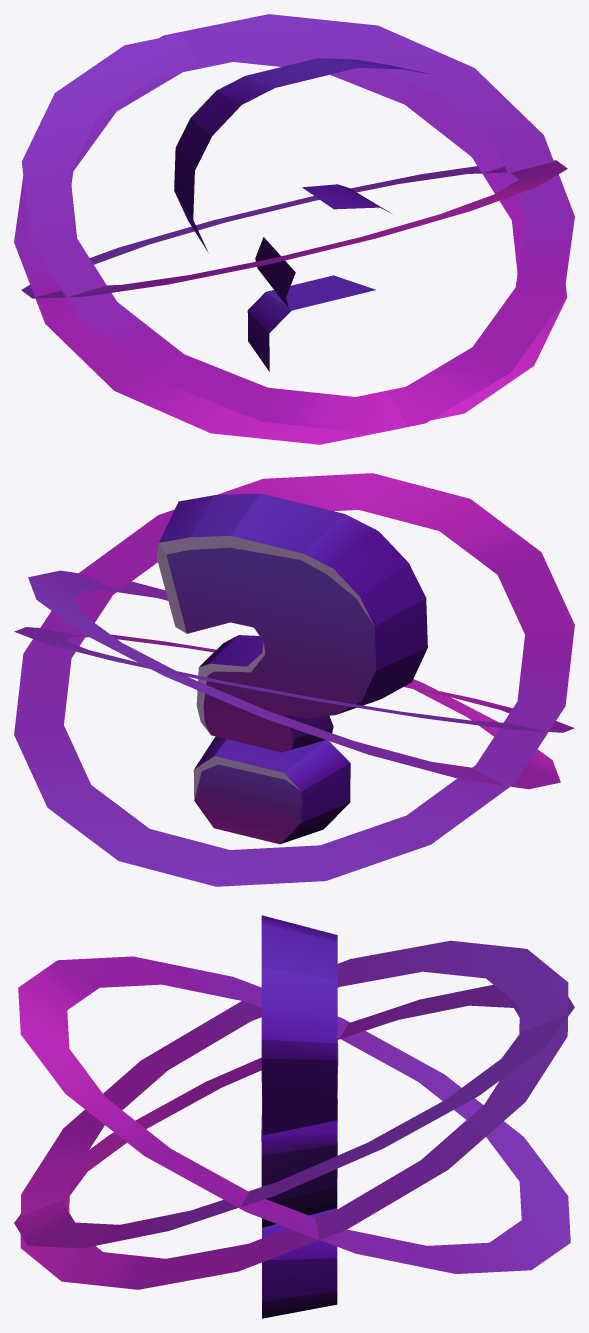
Rendered from MysteryPowerupIcon.glb.
3 views of the same model, one above another, from view 1: azimuth 30°, elevation 25°; view 2: azimuth 150°, elevation 25°; view 3: azimuth 270°, elevation 25° (orthographic). The views are drawn at different scales.
Parts seen in each view (by area): view 1: ring3, ring1, Letter, ring2; view 2: Letter, ring2, ring3, ring1; view 3: ring1, ring2, Letter, ring3.
Boxes of the visible parts, box(x1,y1,x2,y2) form: ring3: box(14, 14, 574, 444); ring1: box(21, 33, 567, 433); Letter: box(174, 58, 434, 371); ring2: box(21, 160, 567, 298); Letter: box(156, 493, 427, 844); ring2: box(14, 473, 574, 886); ring3: box(28, 570, 560, 789); ring1: box(14, 627, 574, 732); ring1: box(20, 940, 568, 1289); ring2: box(18, 956, 570, 1273); Letter: box(261, 915, 338, 1318); ring3: box(14, 984, 574, 1248).
Size of what is drawn, in the model's own units: 16.05 by 10.09 by 15.03.
1 material, 1 textured.
